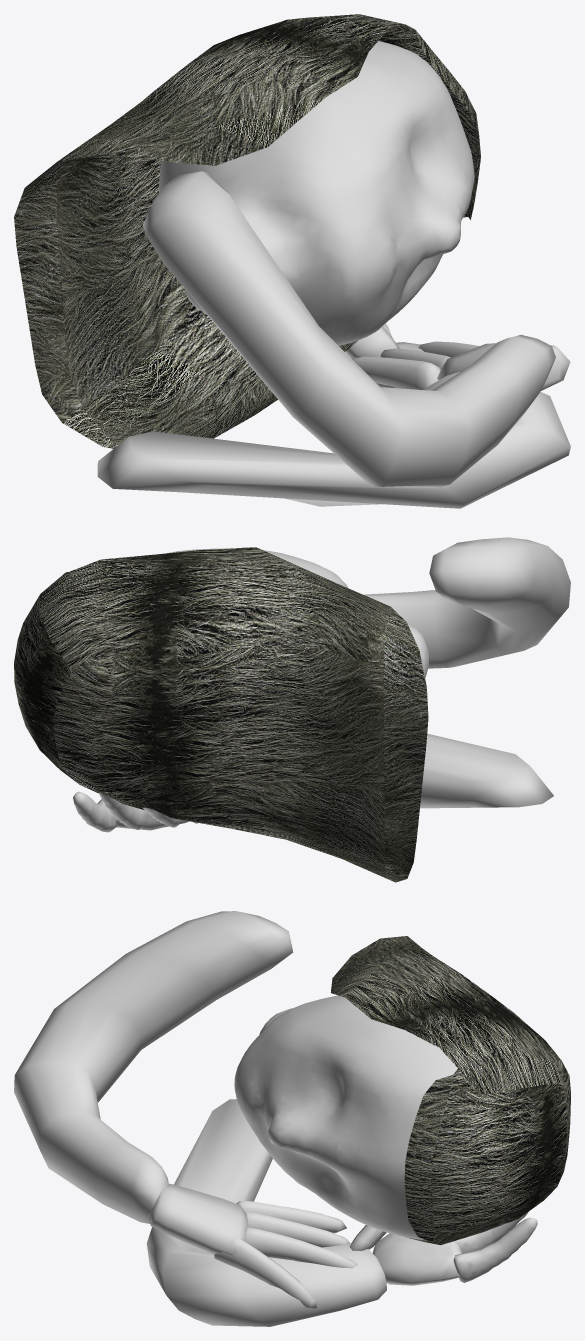
File: SM_Wife00.fbx
The picture shows the model from 3 angles, top to bottom: view 1: azimuth 30°, elevation 25°; view 2: azimuth 150°, elevation 25°; view 3: azimuth 270°, elevation 25°; orthographic projection. The views are drawn at different scales.
Visible parts, largest first — view 1: SM_Wife00; view 2: SM_Wife00; view 3: SM_Wife00.
Boxes of the visible parts, x1,y1,x2,y2 form: SM_Wife00: (14,14,570,508); SM_Wife00: (14,537,570,882); SM_Wife00: (14,911,570,1326).
Size of the model in its own units: 70.31 by 49.16 by 85.54.
